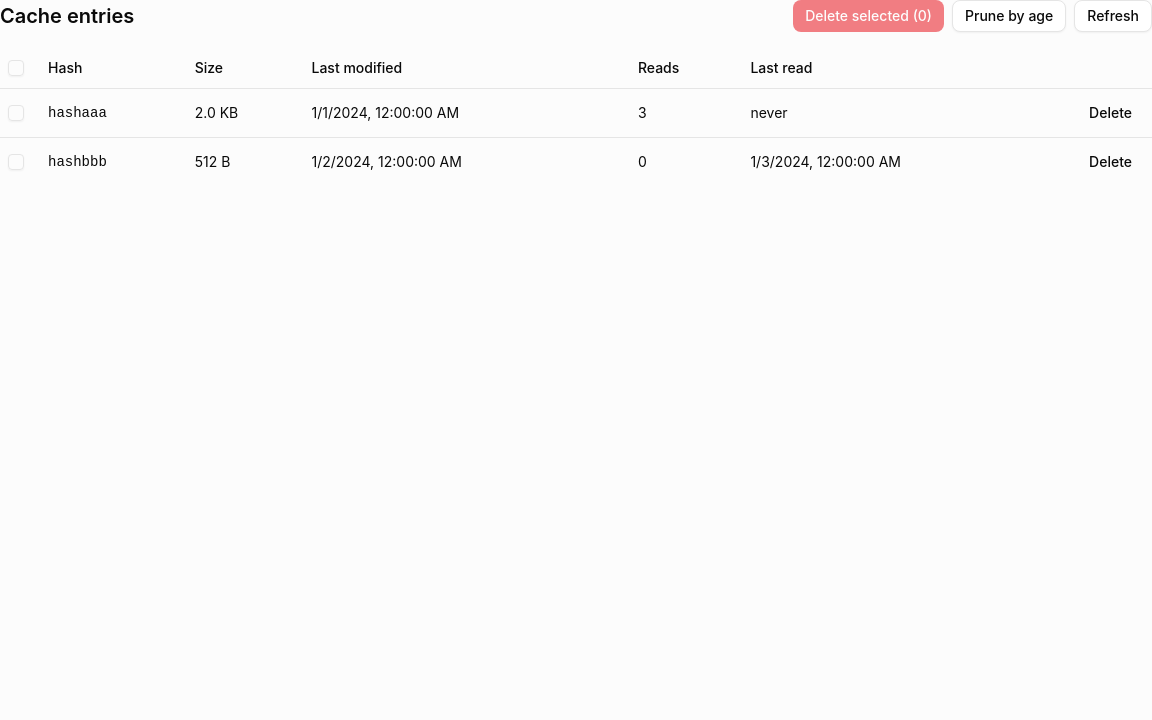
Test: CachePage › cancels the prune dialog without pruning
The width and height of the screenshot is (1152, 720).
Expected: the text "hashaaa" is shown, x1=40 y1=88 x2=187 y2=137
Click the button "Prune by age" at (1009,16), box x1=952 y1=0 x2=1066 y2=32
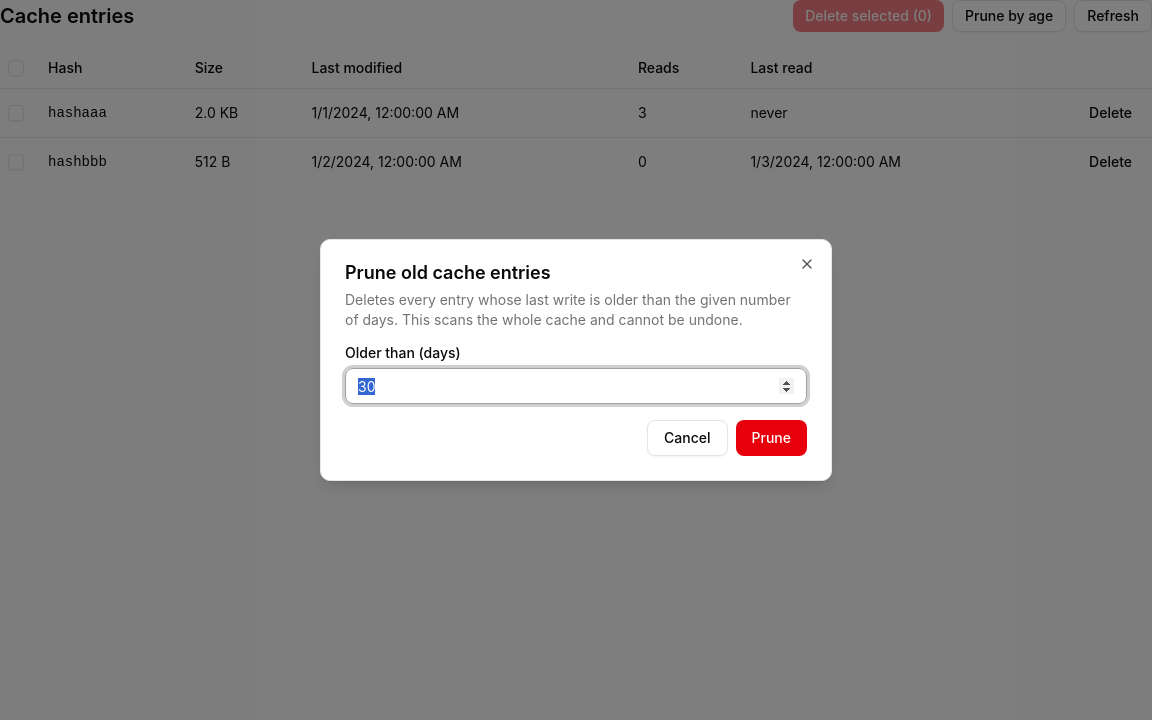
Click the button "Cancel" at (687,438), box x1=647 y1=420 x2=728 y2=456
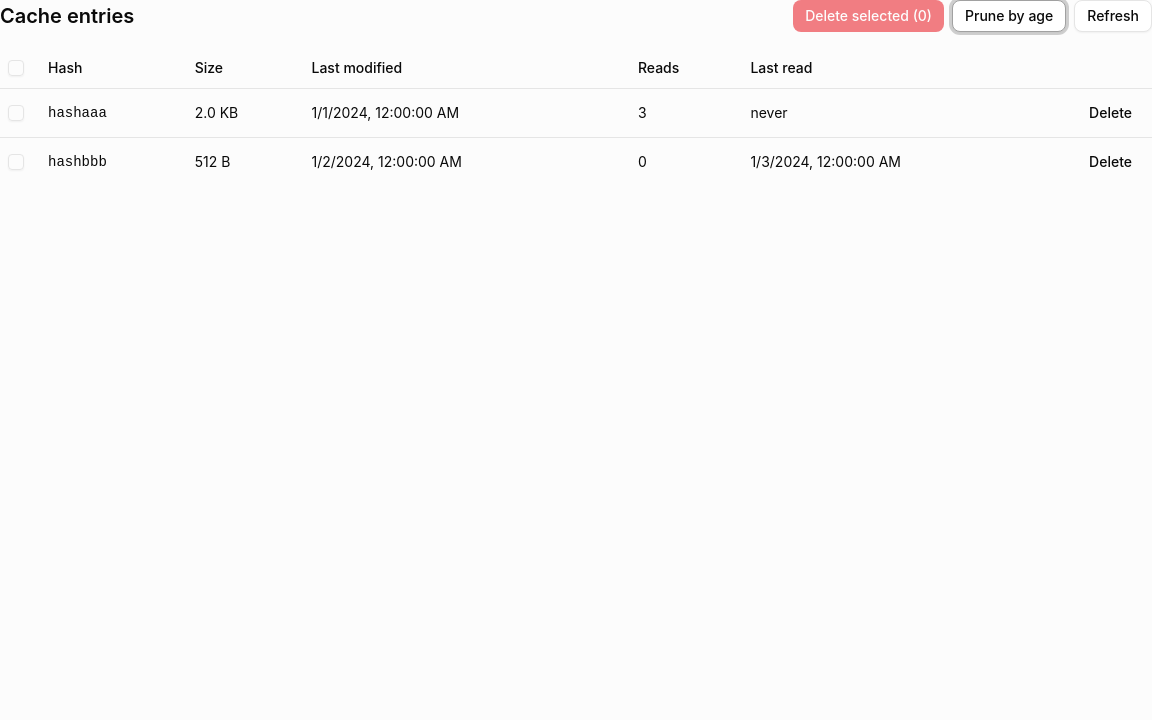
Expected: the heading "Prune old cache entries" is gone
